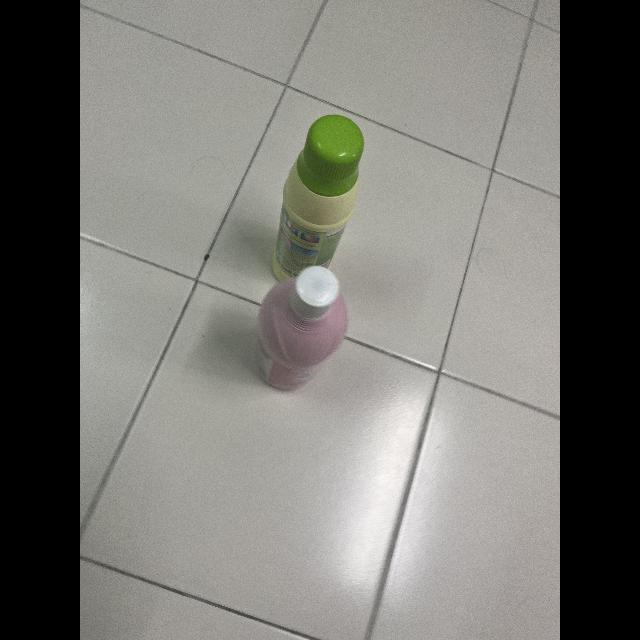chemical_plastic_bottle: (268, 106, 370, 292), (248, 261, 356, 387)
